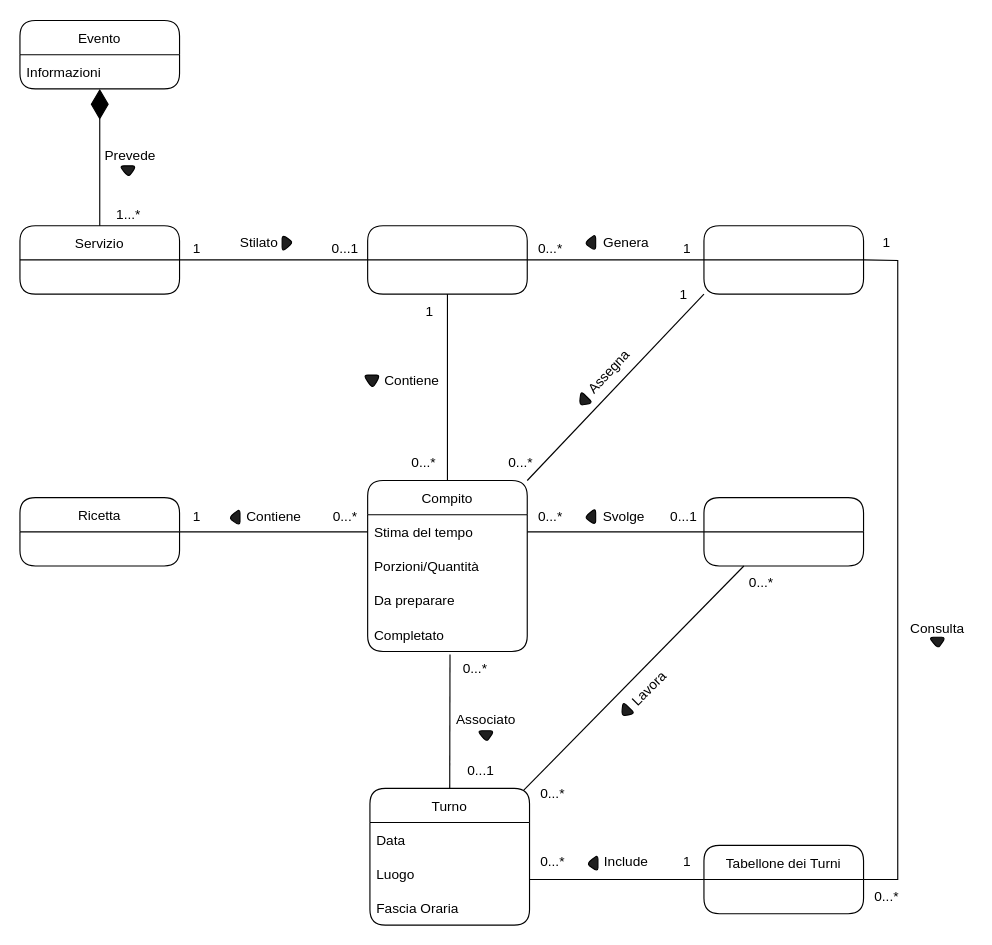
This 992x945 diagram has some shape labels left out. Here are the shapes that lost their labels. From the top down, the centre of each, then its label:
At pixel 447 259: "Foglio Riepilogativo".
At pixel 783 259: "Chef".
At pixel 783 531: "Cuoco".
